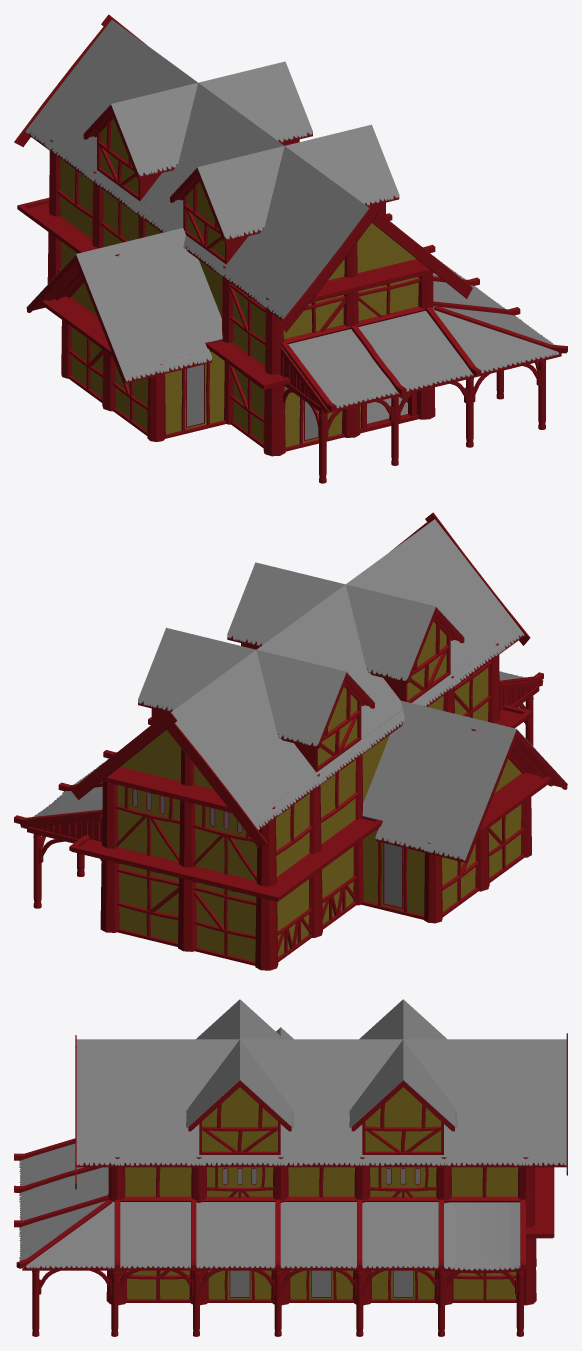
The model's file is SM_MH_01_House_09.fbx.
The picture shows the model from 3 angles, top to bottom: view 1: azimuth 30°, elevation 25°; view 2: azimuth 150°, elevation 25°; view 3: azimuth 270°, elevation 25°; orthographic projection. The views are drawn at different scales.
Parts seen in each view (by area): view 1: SM_MH_01_House_09_LOD0, SM_MH_01_House_09_Windows; view 2: SM_MH_01_House_09_LOD0, SM_MH_01_House_09_Windows; view 3: SM_MH_01_House_09_LOD0, SM_MH_01_House_09_Windows.
Part boxes in pixels (x1=…): SM_MH_01_House_09_LOD0: x1=14, y1=14, x2=567, y2=483; SM_MH_01_House_09_Windows: x1=187, y1=364, x2=318, y2=439; SM_MH_01_House_09_LOD0: x1=14, y1=512, x2=567, y2=970; SM_MH_01_House_09_Windows: x1=133, y1=789, x2=401, y2=907; SM_MH_01_House_09_LOD0: x1=14, y1=999, x2=567, y2=1336; SM_MH_01_House_09_Windows: x1=223, y1=1168, x2=419, y2=1296.
Size of what is drawn, in the model's own units: 1430 by 941 by 2035.
